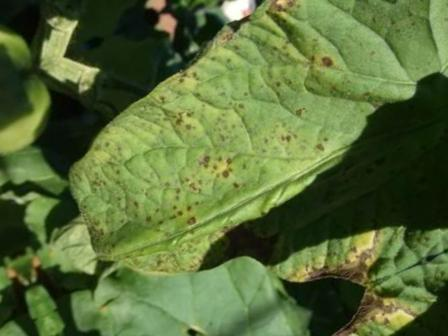Tomato Early blight leaf: (15, 0, 448, 336)
